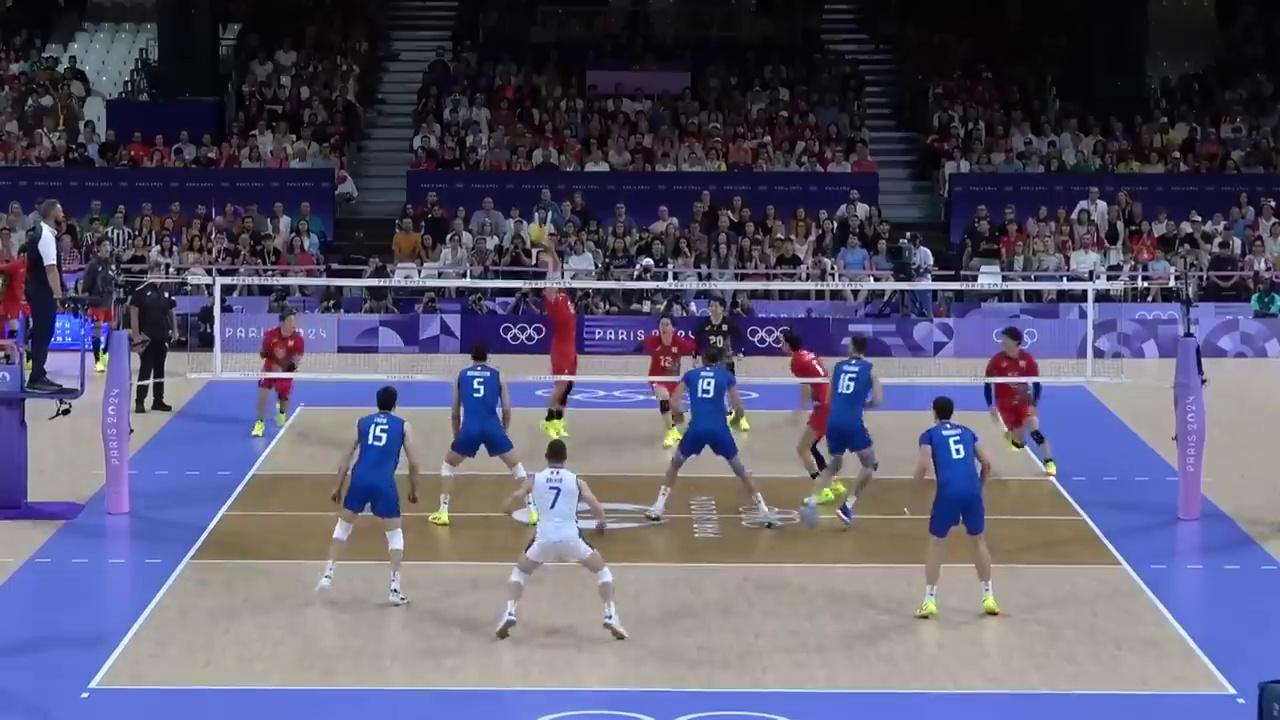ball: (533, 227, 550, 242)
